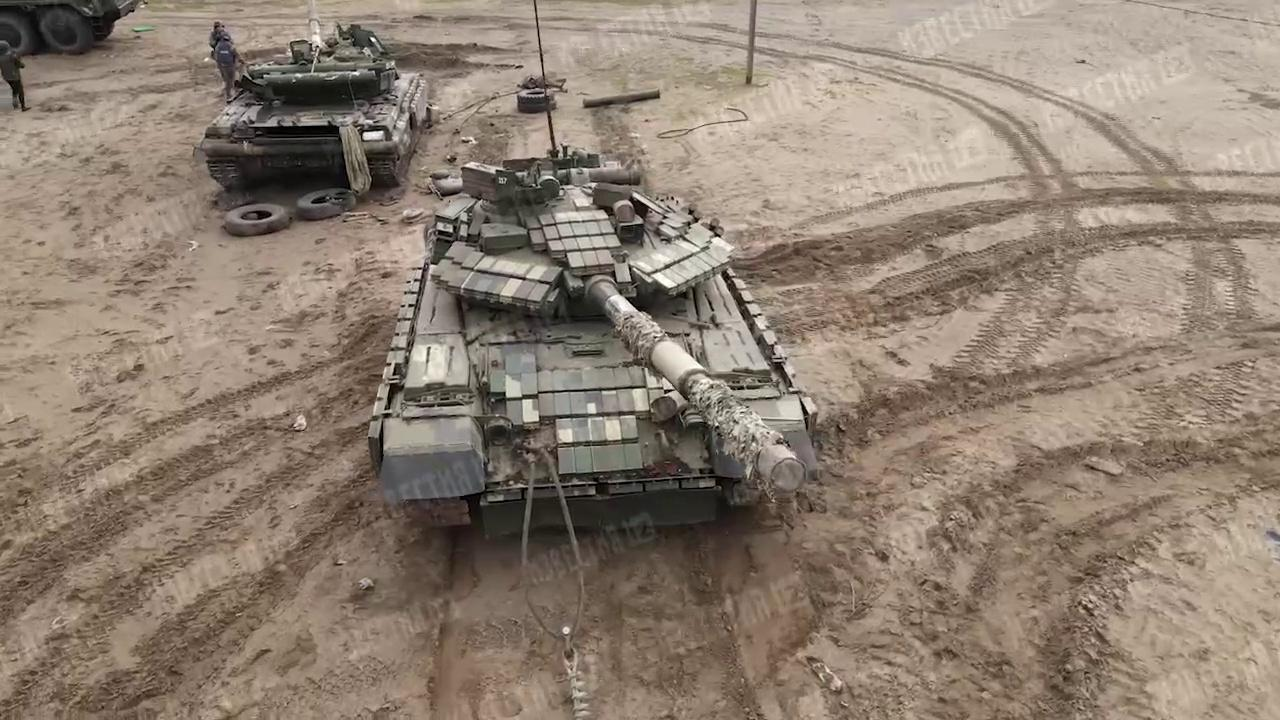person: (214, 31, 246, 104), (0, 40, 31, 112)
tank: (366, 148, 828, 533), (201, 0, 434, 195)
